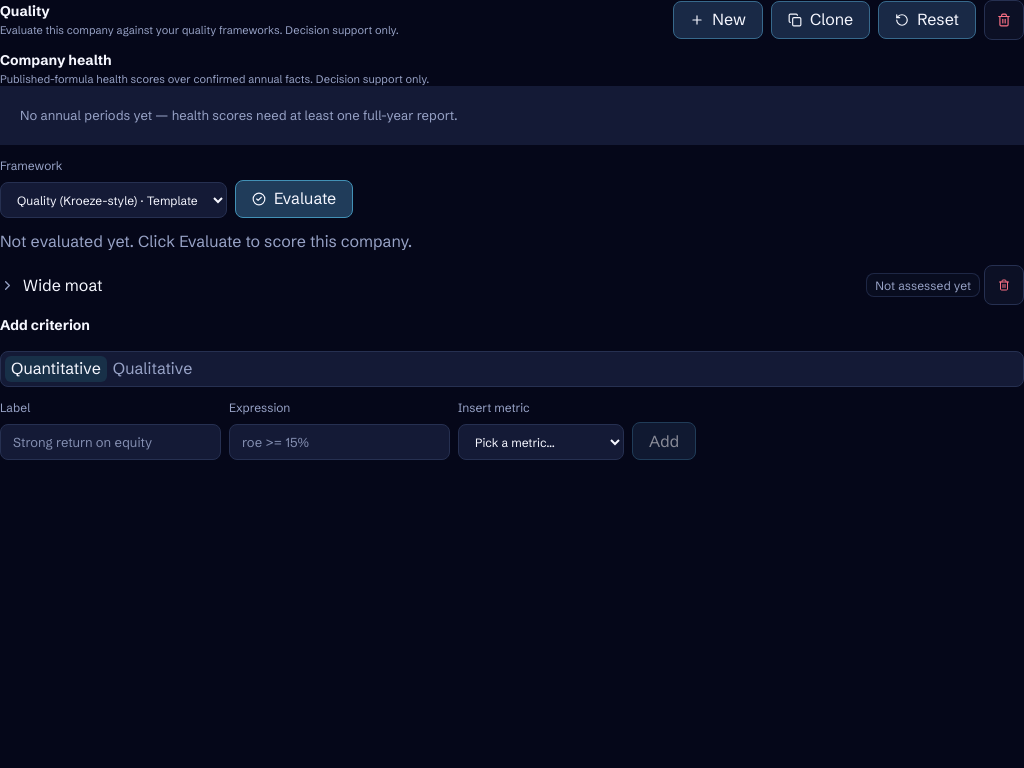
Test: QualityPanel › renders a qualitative criterion with its guidance and no verdict
Check: the text "Wide moat" is shown, box [23,274,102,297]
Check: the text "Not assessed yet" is shown, box [866,273,980,297]
Note: Expanding reveals the owner-authored guidance, not an AI reasoning blob.
Click the button "Wide moat Not assessed yet". click: (63, 285)
box: [0,273,980,297]
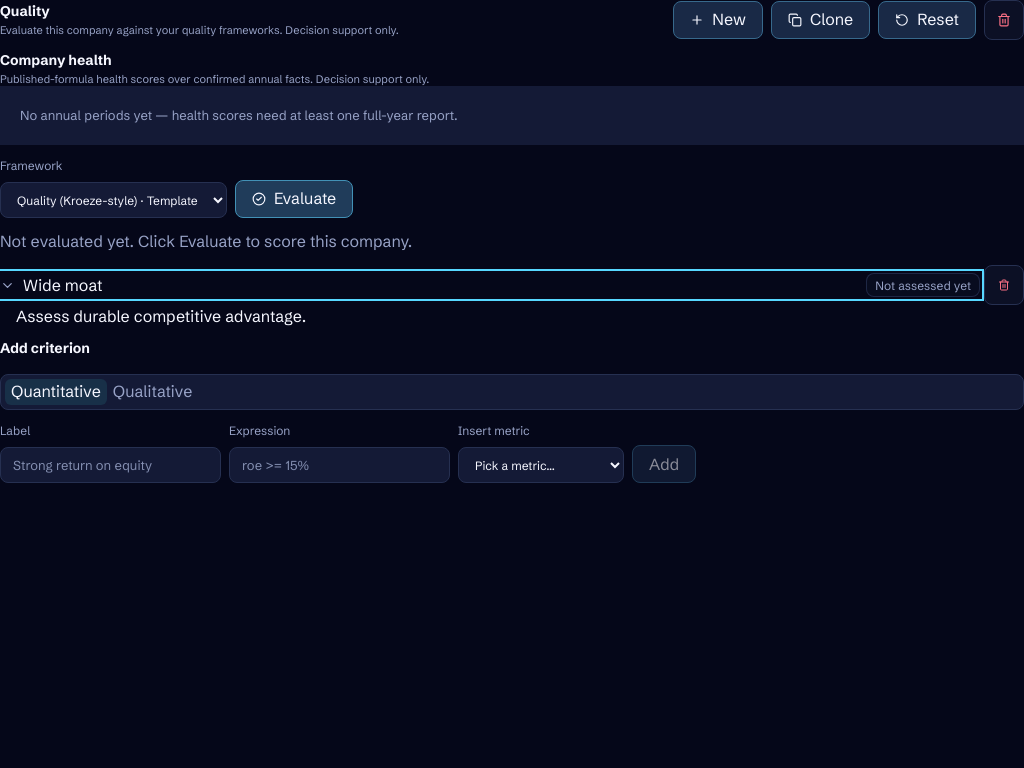
Check: the text "Assess durable competitive advantage." is shown, box [16,306,306,326]
